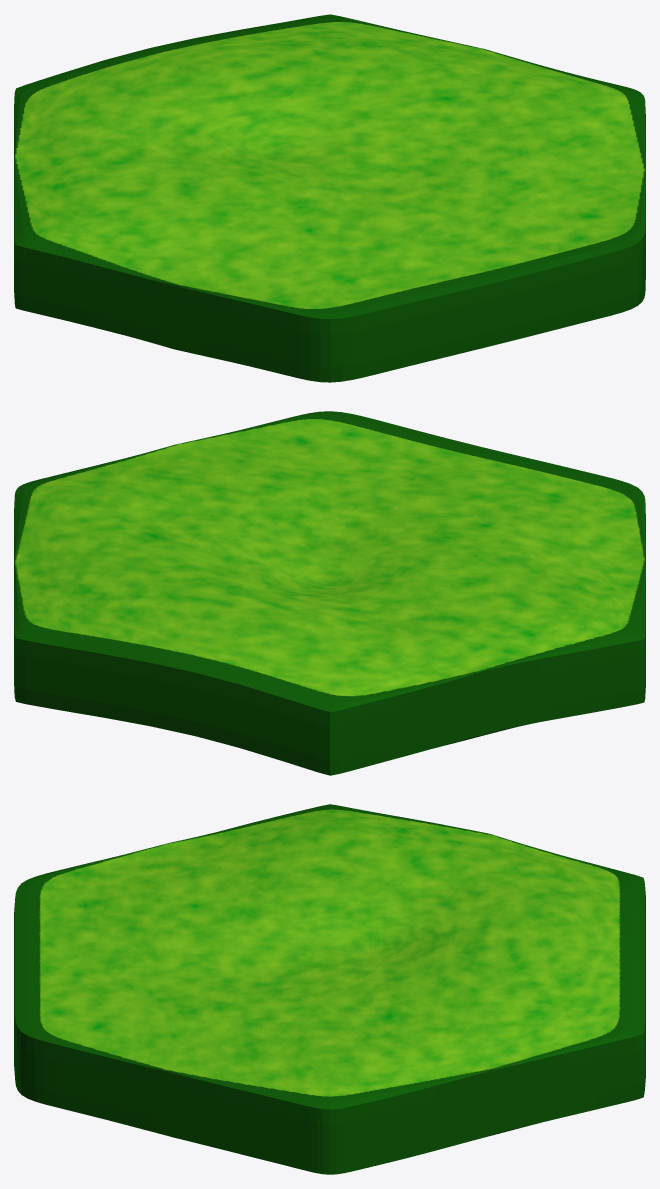
File: hexagon2.glb
3 views of the same model, one above another, from view 1: azimuth 30°, elevation 25°; view 2: azimuth 150°, elevation 25°; view 3: azimuth 270°, elevation 25° (orthographic).
Visible parts, largest first — view 1: Okrąg.008; view 2: Okrąg.008; view 3: Okrąg.008.
Part boxes in pixels (x1,y1,x2,y2): Okrąg.008: (14, 14, 645, 382); Okrąg.008: (14, 411, 645, 775); Okrąg.008: (14, 804, 645, 1174).
Bounding box in the file's own units: 1.98 × 0.2647 × 1.73.
1 material, 1 textured.
